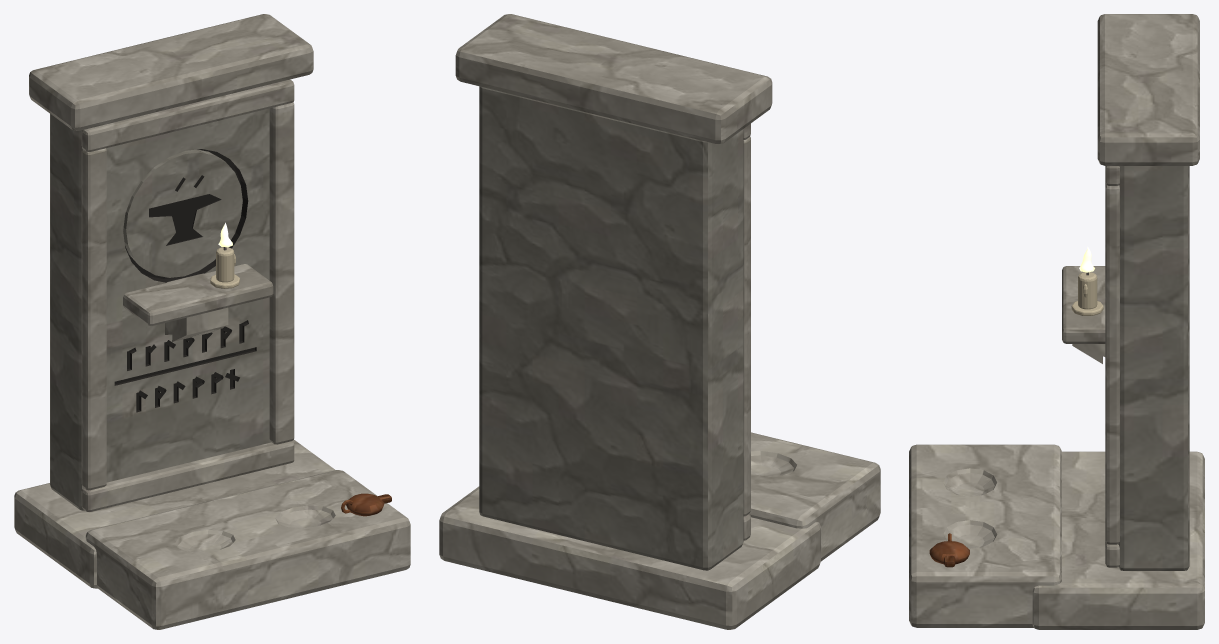
Rendered from qb_kneeler_stele.glb.
The picture shows the model from 3 angles, left to right: view 1: azimuth 30°, elevation 25°; view 2: azimuth 150°, elevation 25°; view 3: azimuth 270°, elevation 25°; orthographic projection. The views are drawn at different scales.
Parts seen in each view (by area): view 1: model; view 2: model; view 3: model.
Part boxes in pixels (left/top/right/bottom): model: left=14, top=14, right=410, bottom=629; model: left=439, top=14, right=880, bottom=629; model: left=909, top=14, right=1204, bottom=629.
Size of the model in its own units: 0.64 by 1.06 by 0.58.
Materials: 8 (4 with a texture image).
